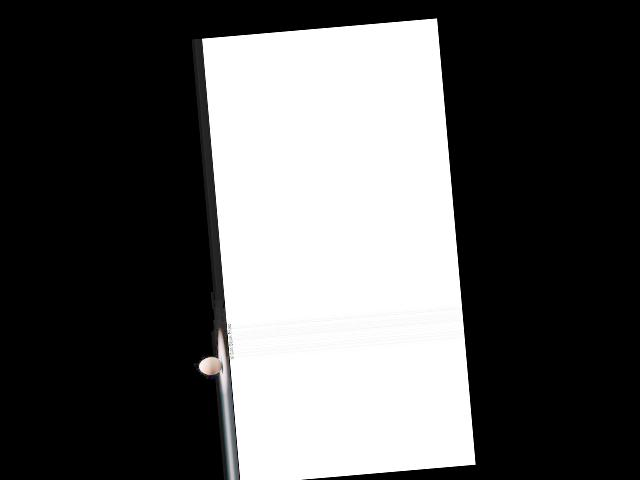egg: (198, 355, 223, 376)
